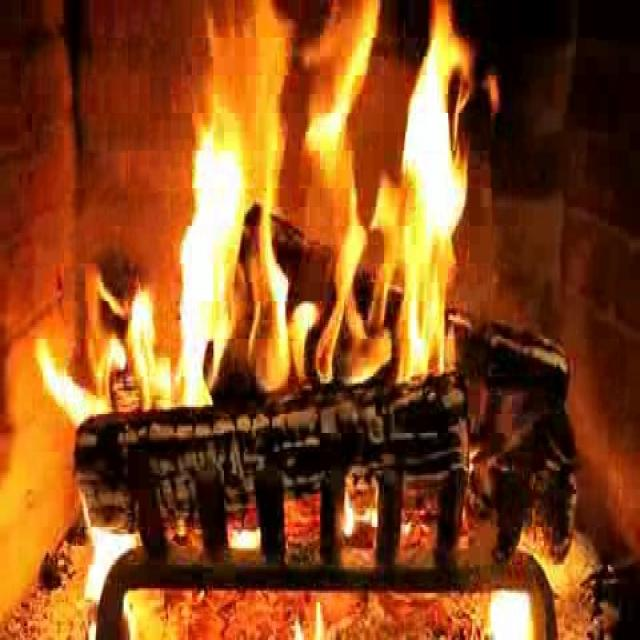fire: (158, 1, 484, 416)
